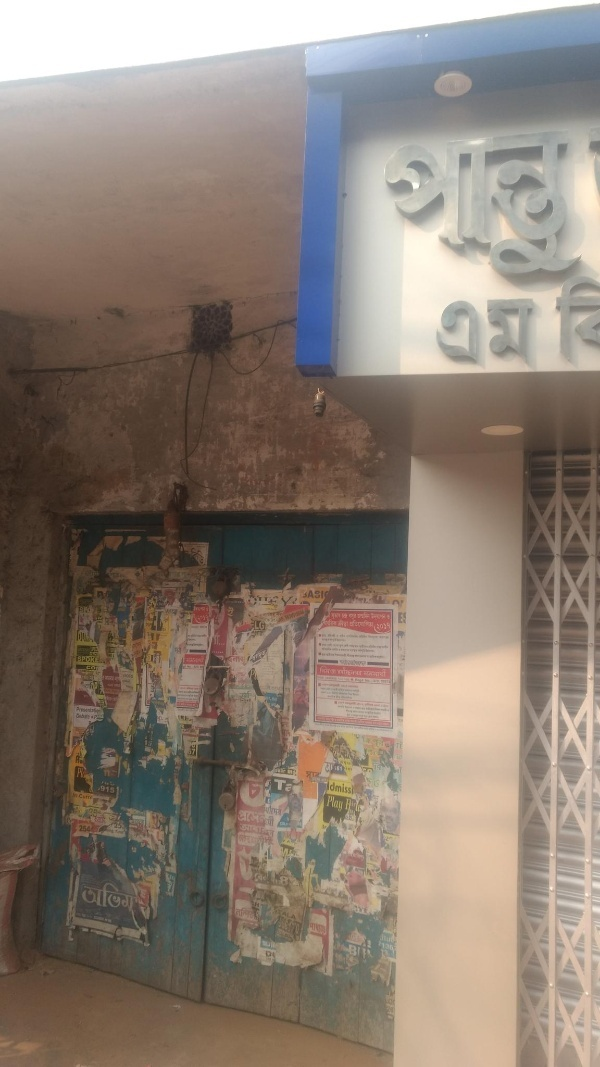text: (49, 557, 64, 1010), (65, 557, 80, 1010), (81, 557, 96, 1010), (97, 557, 112, 1010), (113, 557, 128, 1010), (129, 557, 144, 1010), (145, 557, 160, 1010), (161, 557, 176, 1010), (177, 557, 192, 1010), (193, 557, 208, 1010), (209, 557, 224, 1010), (225, 557, 240, 1010), (241, 557, 256, 1010), (257, 557, 272, 1010), (273, 557, 288, 1010), (289, 557, 304, 1010), (305, 557, 320, 1010), (321, 557, 336, 1010), (337, 557, 352, 1010), (353, 557, 368, 1010), (369, 557, 384, 1010), (385, 557, 400, 1010), (401, 557, 412, 1010), (385, 127, 400, 289), (401, 127, 416, 289), (417, 127, 432, 289), (433, 127, 448, 289), (449, 127, 464, 289), (465, 127, 480, 289), (481, 127, 496, 289), (497, 127, 512, 289), (513, 127, 528, 289), (529, 127, 544, 289), (545, 127, 560, 289), (561, 127, 576, 289), (577, 127, 591, 289), (561, 274, 576, 369), (577, 274, 592, 369), (449, 298, 464, 365), (465, 298, 480, 365), (481, 298, 496, 365), (497, 298, 512, 365), (513, 298, 528, 365), (434, 298, 448, 365), (46, 557, 48, 1010), (593, 274, 600, 369), (529, 298, 537, 365), (557, 274, 560, 369)
